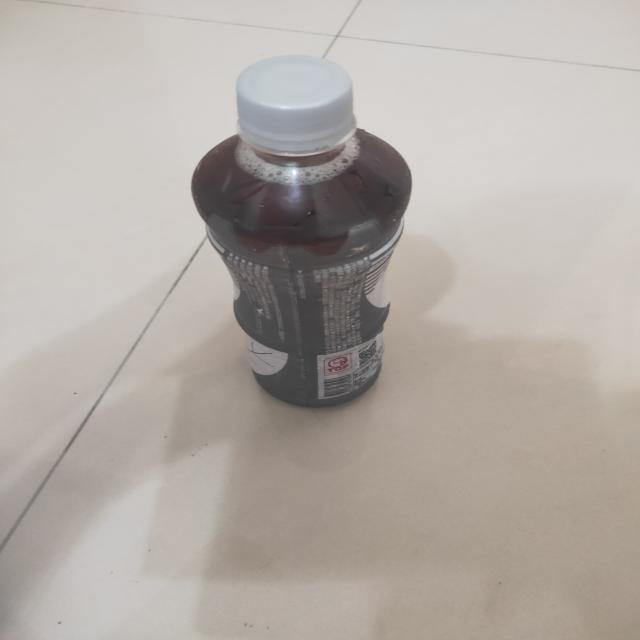ChaLiWong_WhiteOolong: (185, 50, 422, 412)
